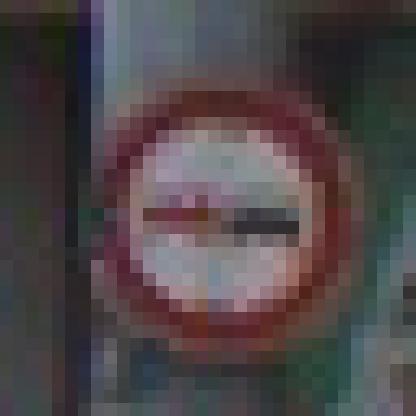No Overtaking: (79, 66, 352, 352)
